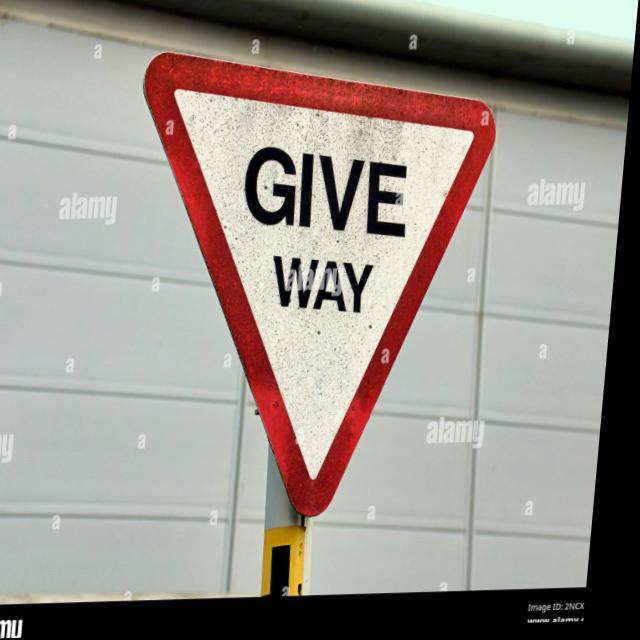GIVE_WAY: (116, 42, 507, 521)
